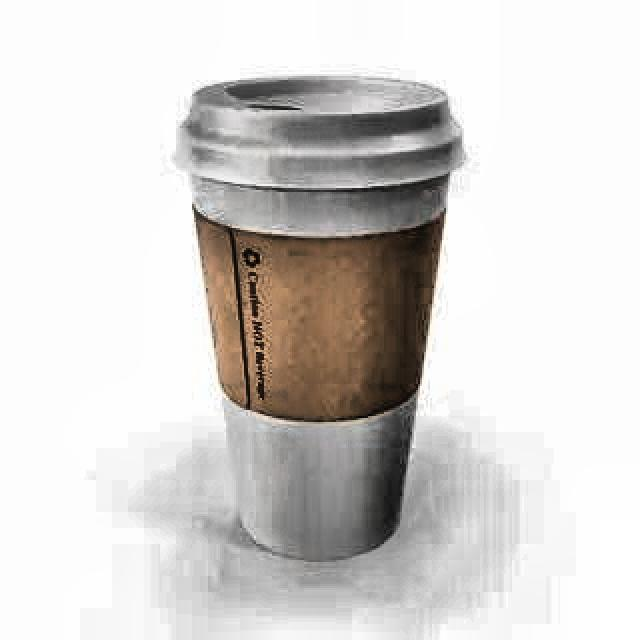Cup: (170, 110, 461, 576)
